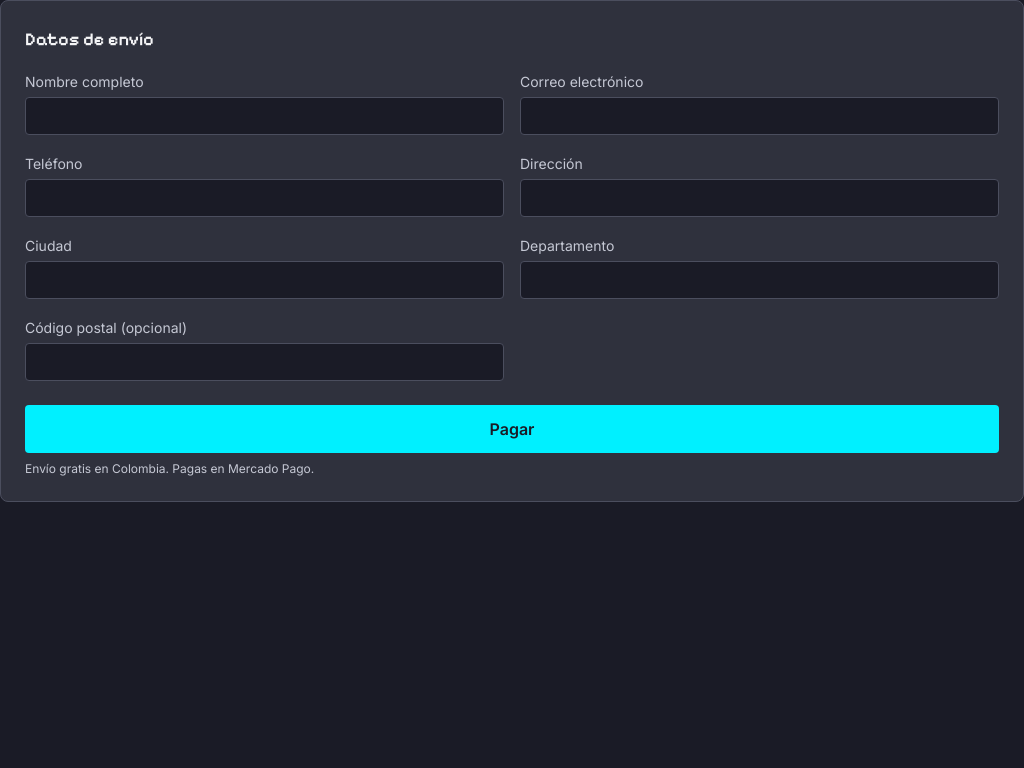
Test: CheckoutForm › muestra los errores y no confirma con el formulario vacío
The width and height of the screenshot is (1024, 768).
Click the button "Pagar": (512, 429) [25,405,999,453]
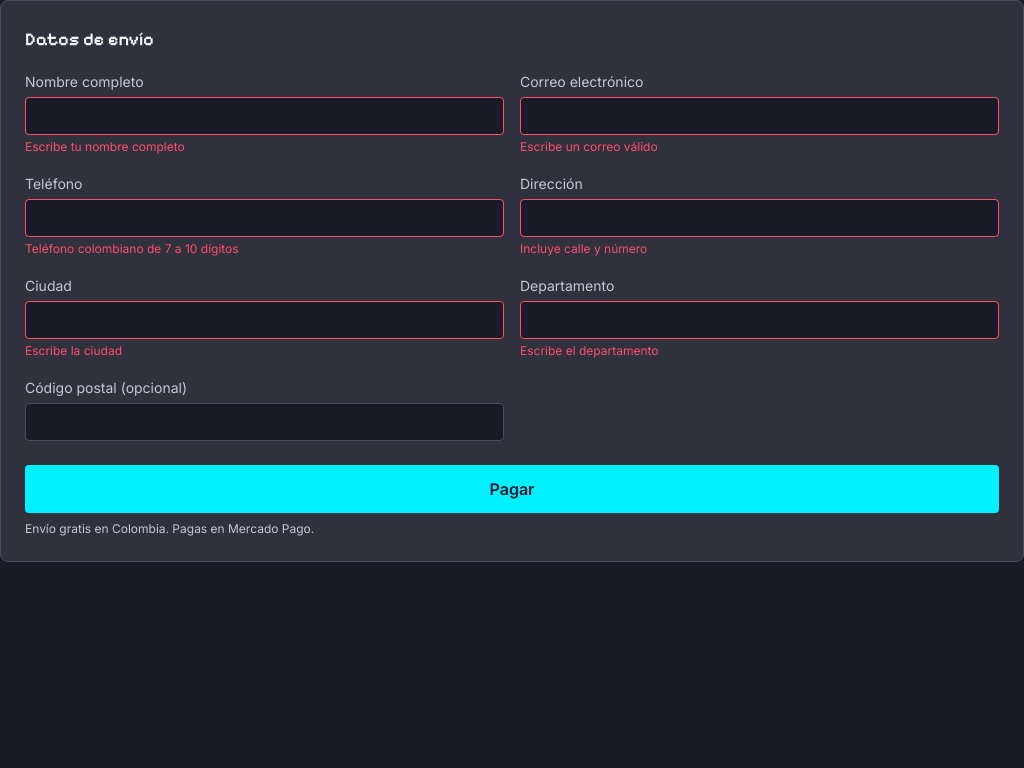
Result: the text "Escribe tu nombre completo" is shown at [25,139,185,154]
Result: the text "Escribe un correo válido" is shown at [520,139,658,154]
